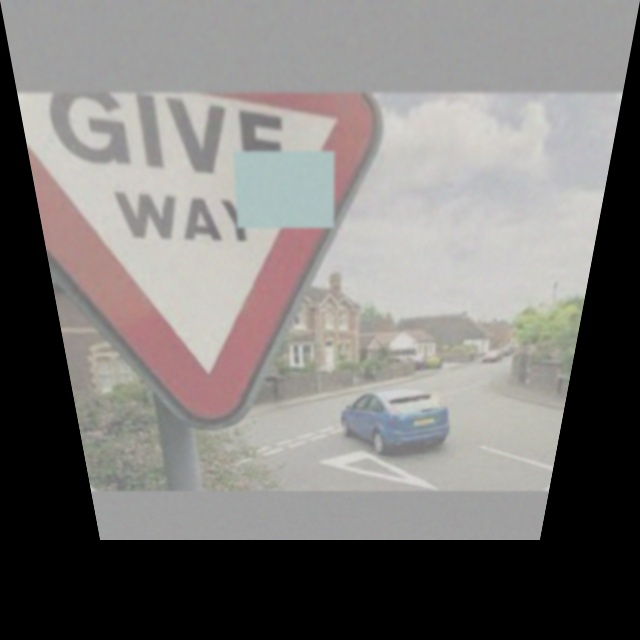Give_Way: (24, 92, 357, 383)
